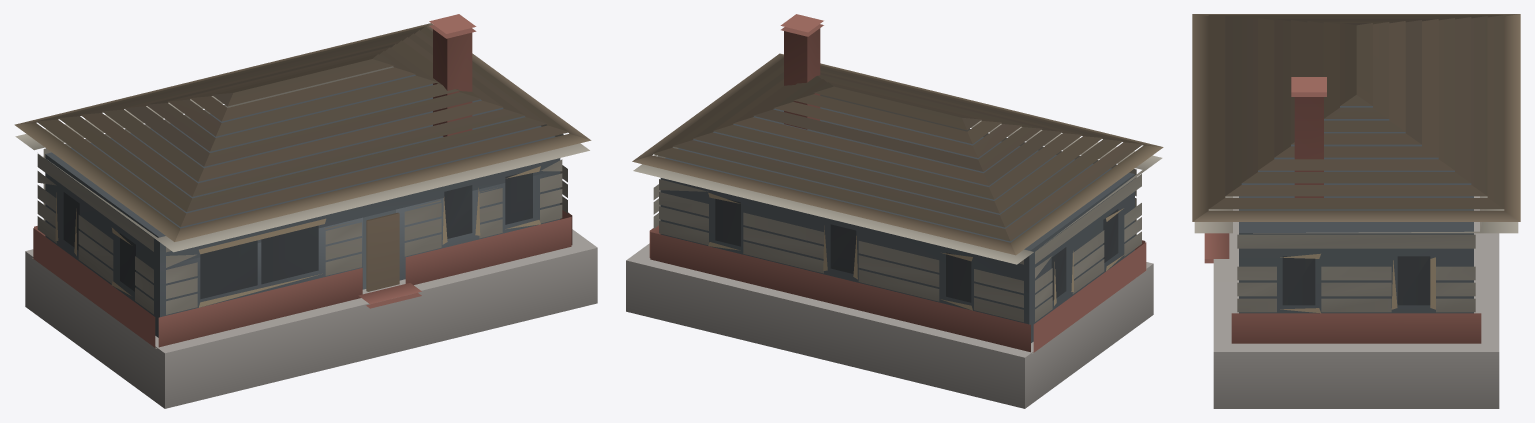
The model's file is ranch.lod.glb.
The picture shows the model from 3 angles, left to right: view 1: azimuth 30°, elevation 25°; view 2: azimuth 150°, elevation 25°; view 3: azimuth 270°, elevation 25°; orthographic projection. The views are drawn at different scales.
Parts seen in each view (by area): view 1: ranch; view 2: ranch; view 3: ranch.
Boxes of the visible parts, bbox=[...] form: ranch: bbox=[14, 14, 597, 408]; ranch: bbox=[626, 14, 1163, 408]; ranch: bbox=[1192, 14, 1520, 408].
Bounding box in the file's own units: 12.48 × 7.4 × 8.
